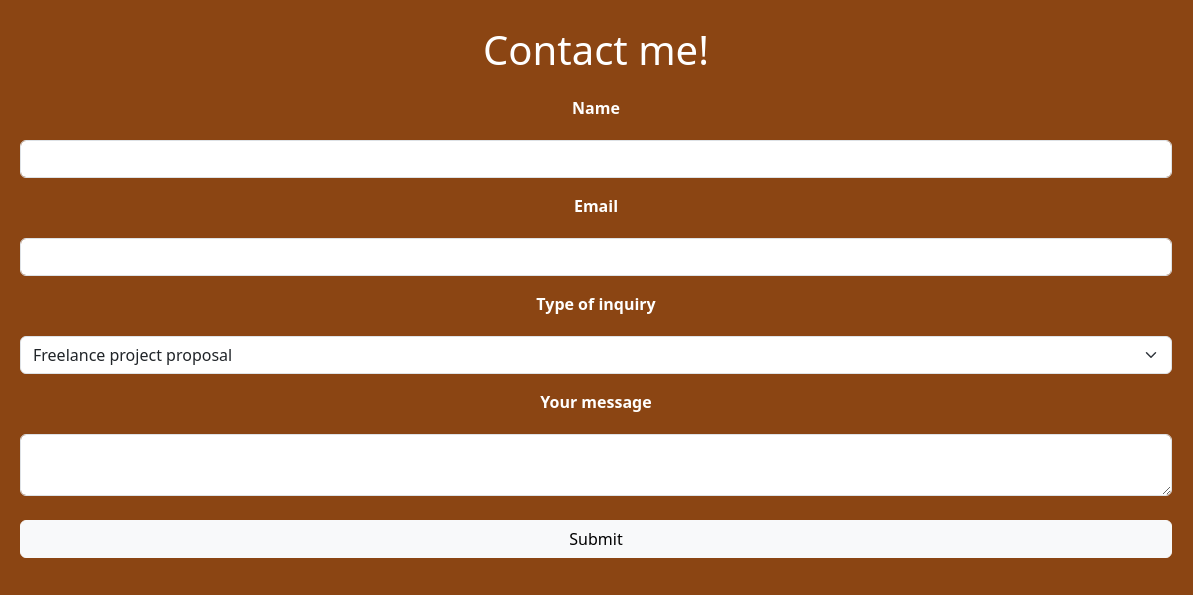
Test: shows invalid email message for malformed Email input
This screenshot has width=1193, height=595.
Step 1. Type "invalid" into the field labelled "Email" → (596, 257), box 20,238 -> 1172,276
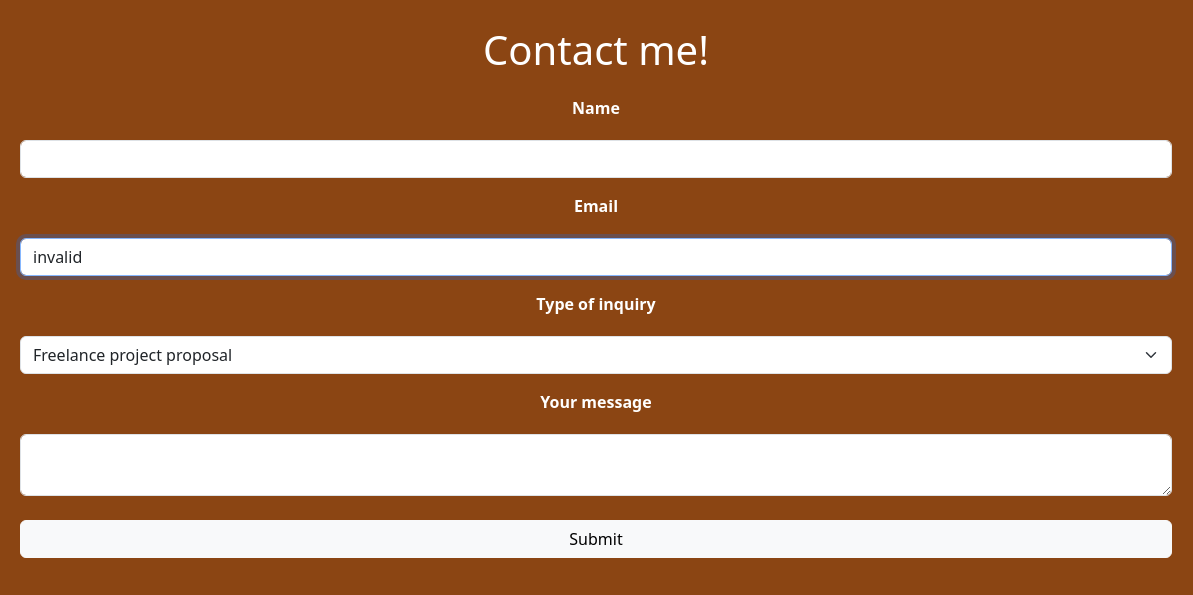
Step 2. Press Tab
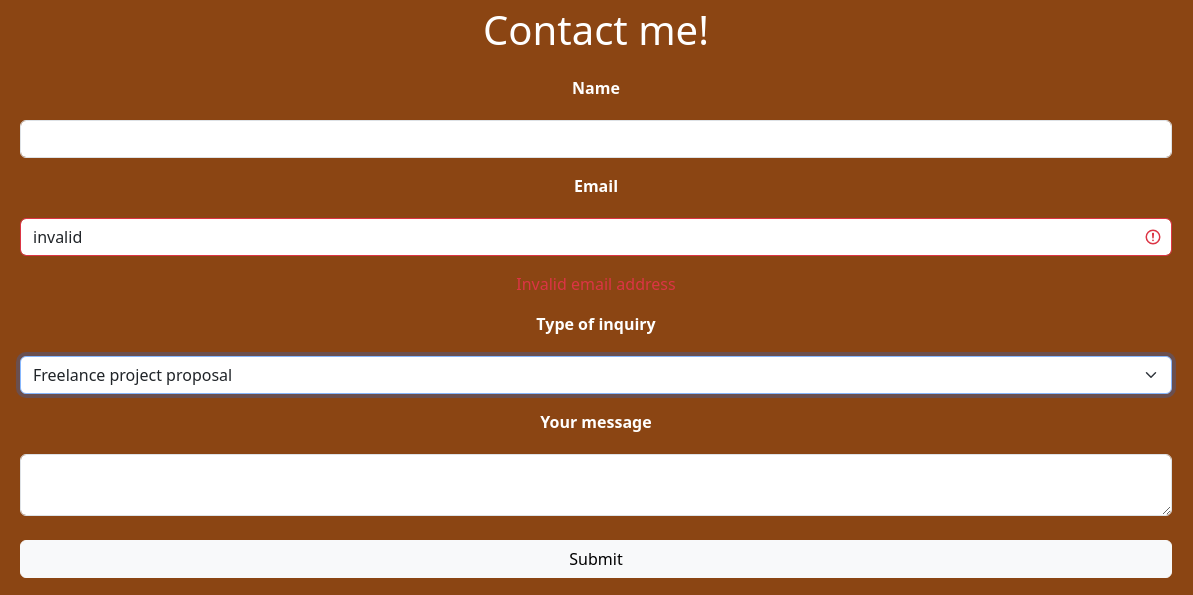
Check: the text "Invalid email address" is shown, box 516,273 -> 676,295
